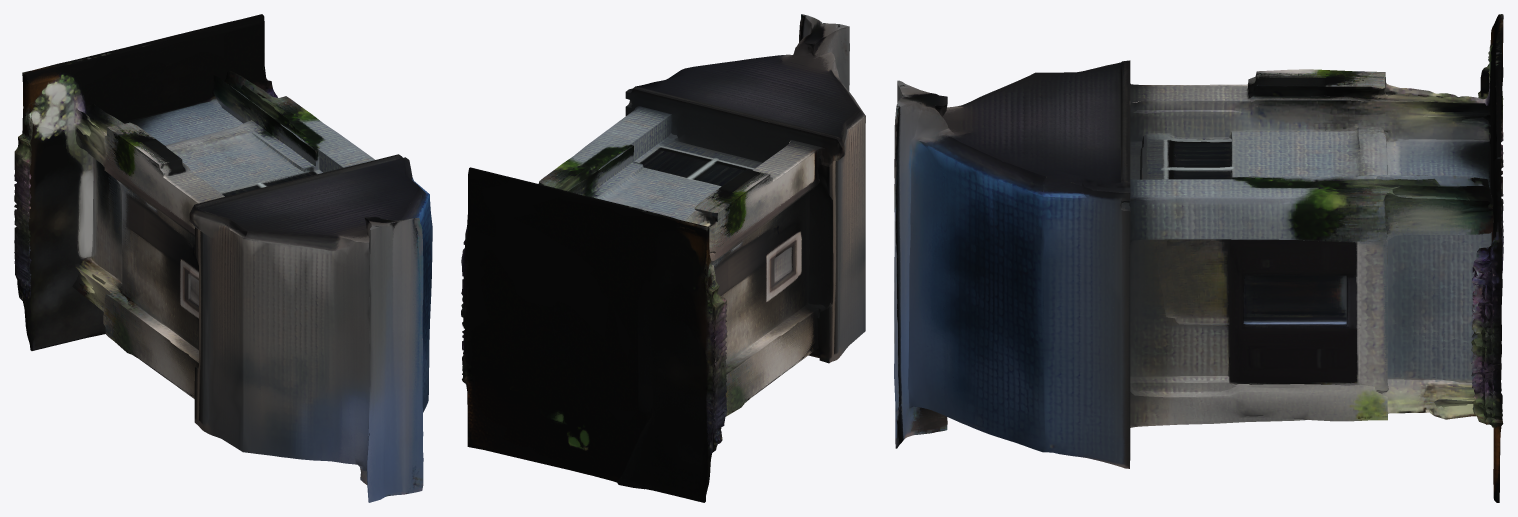
The model's file is out_sim.glb.
3 views of the same model, side by side, from view 1: azimuth 30°, elevation 25°; view 2: azimuth 150°, elevation 25°; view 3: azimuth 270°, elevation 25° (orthographic). The views are drawn at different scales.
Visible parts, largest first — view 1: world; view 2: world; view 3: world.
Part boxes in pixels (bbox=[...]): world: bbox=[14, 14, 432, 502]; world: bbox=[461, 14, 865, 502]; world: bbox=[894, 14, 1503, 502].
Size of the model in its own units: 0.6035 by 0.6242 by 0.9958.
Materials: 1 (1 with a texture image).
